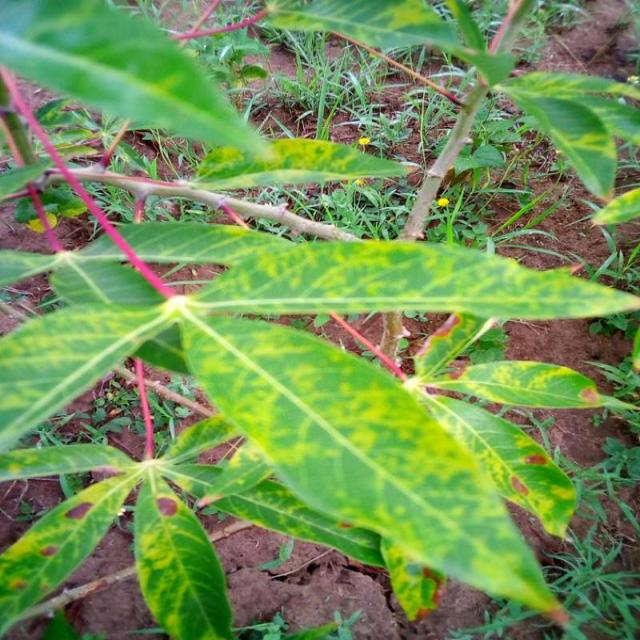cassava leaf: (0, 218, 638, 624), (176, 308, 570, 624)
